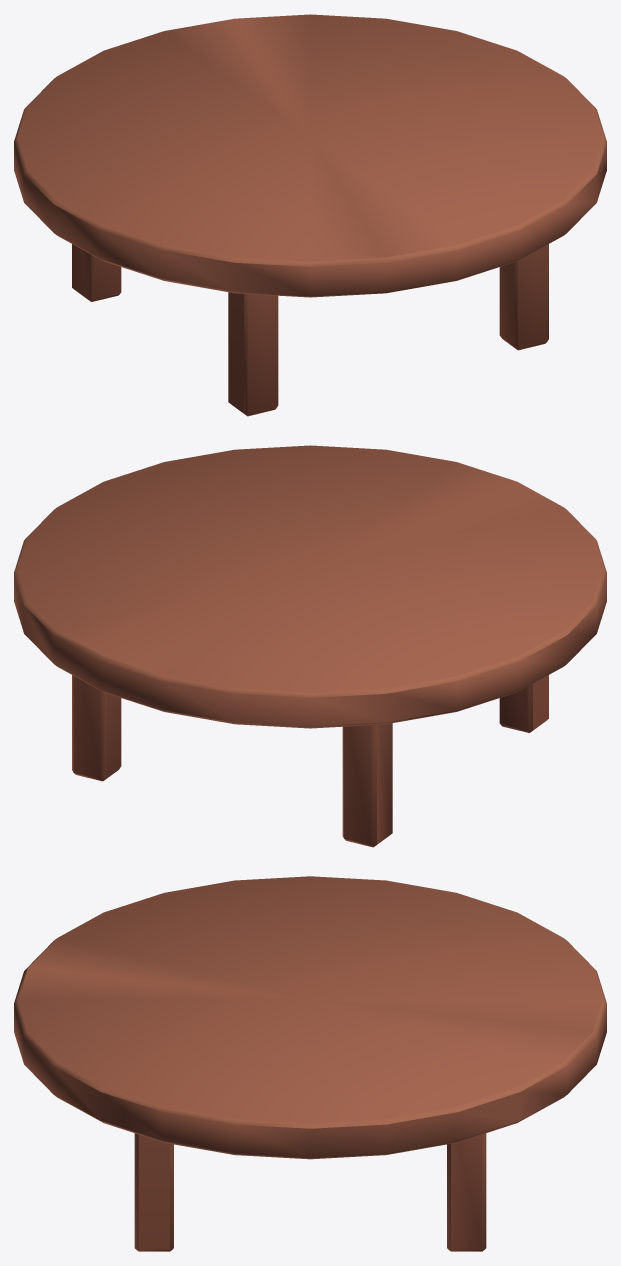
Rendered from kay-table_round_b.glb.
3 views of the same model, one above another, from view 1: azimuth 30°, elevation 25°; view 2: azimuth 150°, elevation 25°; view 3: azimuth 270°, elevation 25° (orthographic).
Visible parts, largest first — view 1: table_round_B; view 2: table_round_B; view 3: table_round_B.
Part boxes in pixels (x1,y1,x2,y2): table_round_B: (14, 14, 606, 416); table_round_B: (14, 445, 606, 847); table_round_B: (14, 876, 606, 1251).
Size of the model in its own units: 1.4 by 0.4667 by 1.4.
Materials: 1 (1 with a texture image).
